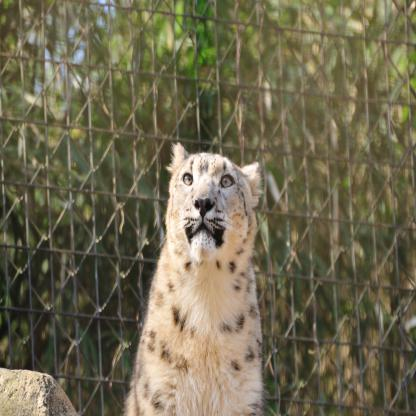leopard: (158, 152, 265, 284)
